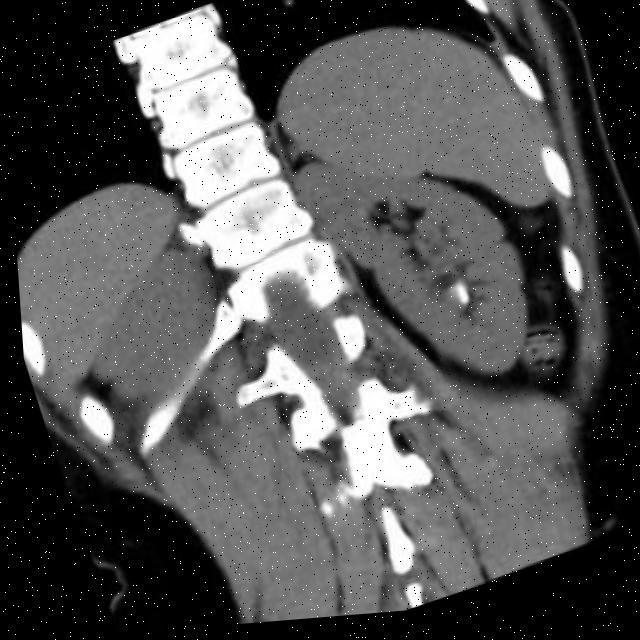Tas_Var: (441, 277, 478, 317)
